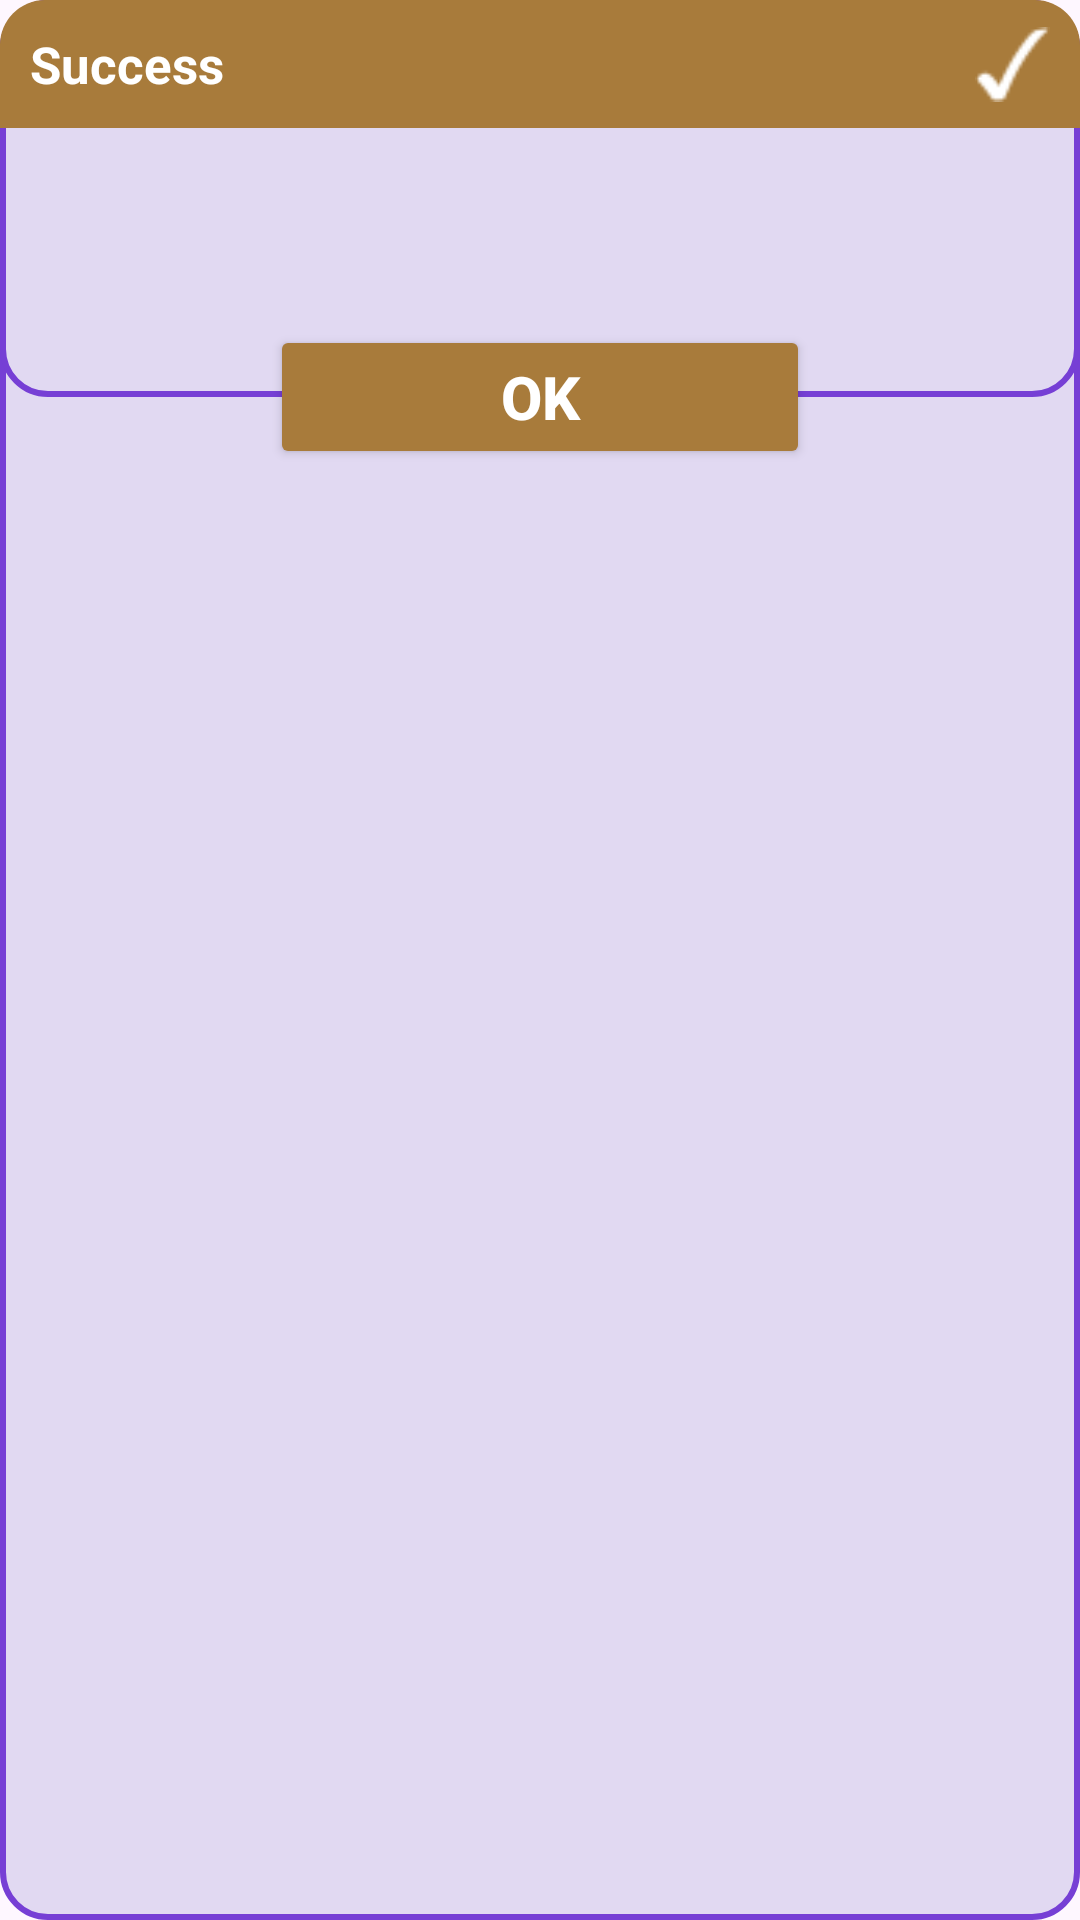

Screen size 1080px×1920px. Icon name, then its box in pixels as (x1, y1, x2, y2):
check: (977, 27, 1048, 102)
